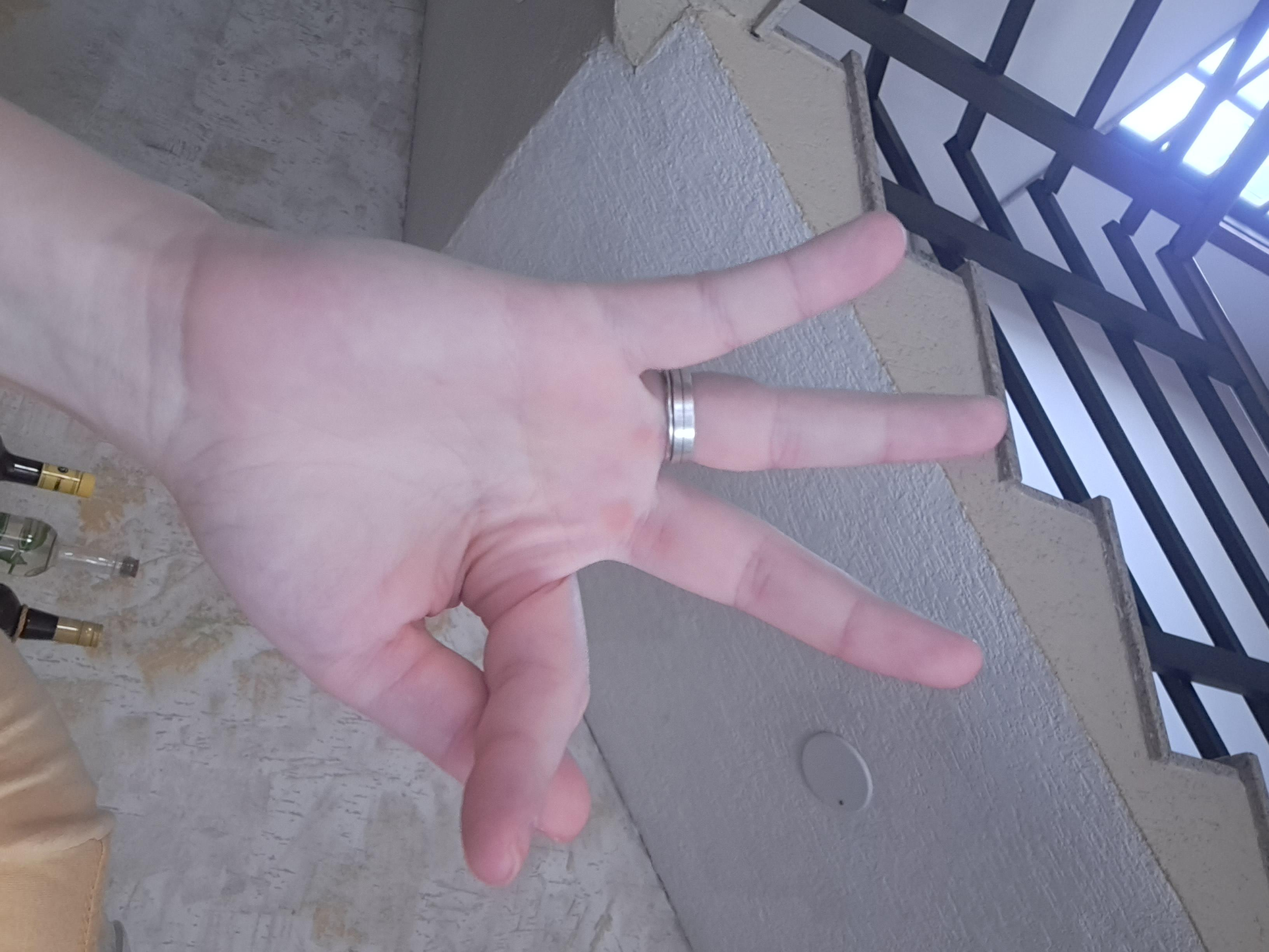F: (275, 163, 1203, 837)
